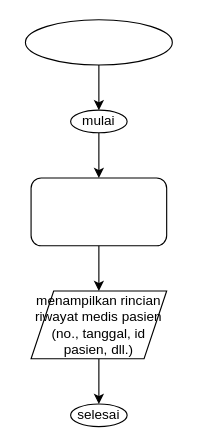
This 198x446 diagram has some shape labels left out. Each missing label, with the box of its shape:
pengulangan sebanyak variabel "sizeRiwayatMedisPasien" (jumlah pasien): (30, 177, 167, 246)
tampilkanRiwayat MedisPasien: (24, 19, 172, 65)
